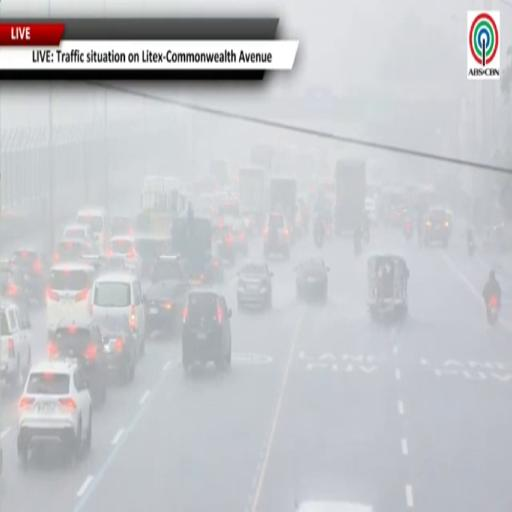car: (17, 361, 92, 466), (48, 319, 107, 406), (91, 272, 145, 355), (182, 290, 232, 374), (143, 255, 190, 334), (47, 263, 97, 337), (96, 317, 138, 383), (0, 301, 31, 388), (11, 249, 48, 303), (237, 262, 272, 309), (76, 207, 110, 253), (135, 234, 170, 278), (296, 256, 329, 302), (3, 267, 38, 307), (107, 236, 142, 276), (264, 213, 290, 259), (221, 218, 248, 260), (424, 207, 452, 247), (54, 238, 98, 263), (63, 223, 95, 245), (111, 215, 134, 236)
motorcycle: (487, 296, 499, 325), (404, 221, 413, 242), (314, 230, 324, 248), (354, 237, 362, 255), (468, 238, 475, 255)
truck: (171, 214, 218, 283), (137, 176, 187, 235), (334, 158, 366, 236), (239, 165, 267, 231), (270, 178, 297, 231), (250, 144, 275, 170), (210, 159, 229, 186)
